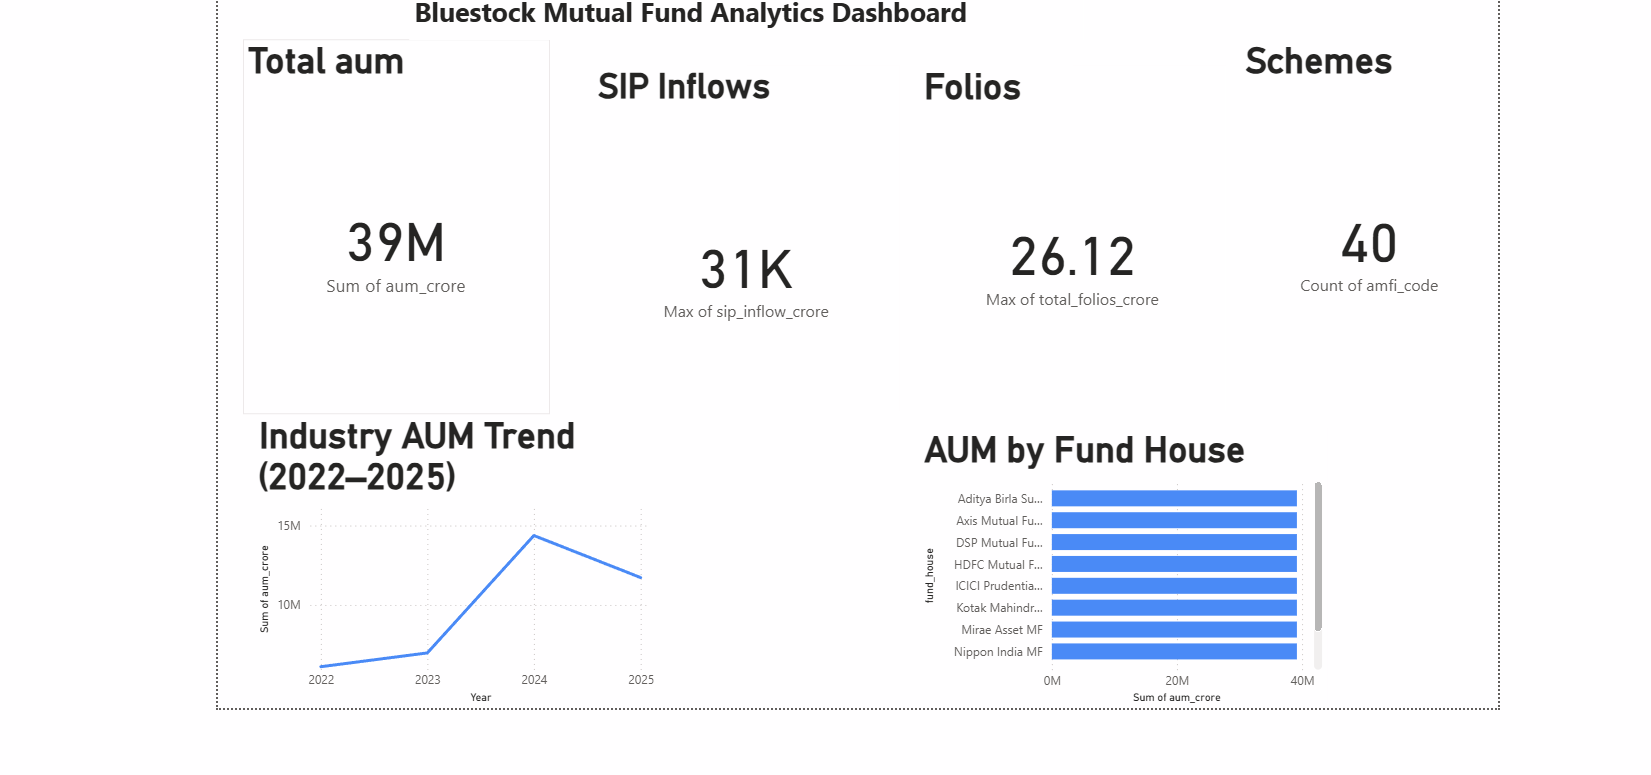

Layout of this report page (visuals, bound fields, positions):
{"tool":"powerbi","page":{"name":"Page 1Industry Overview","canvas":[1280,720],"ordinal":0},"visuals":[{"type":"lineChart","title":"Industry AUM Trend (2022–2025)","fields":{"Category":["03_aum_by_fund_house.date.Variation.Date Hierarchy.Year","03_aum_by_fund_house.date.Variation.Date Hierarchy.Quarter","03_aum_by_fund_house.date.Variation.Date Hierarchy.Month","03_aum_by_fund_house.date.Variation.Date Hierarchy.Day"],"Y":["Sum(03_aum_by_fund_house.aum_crore)"]},"box":[36.1,426.1,404.6,294.2],"z":0},{"type":"card","title":"Total aum","fields":{"Values":["Sum(03_aum_by_fund_house.aum_crore)"]},"box":[24.8,51.8,306.6,374.2],"z":1000},{"type":"card","title":"SIP Inflows","fields":{"Values":["Max(04_monthly_sip_inflows.sip_inflow_crore)"]},"box":[375.3,77.8,306.6,374.2],"z":2000},{"type":"card","title":"Folios","fields":{"Values":["Max(06_industry_folio_count.total_folios_crore)"]},"box":[701.1,77.8,306.6,348.3],"z":3000},{"type":"card","title":"Schemes","fields":{"Values":["Count(01_fund_master.amfi_code)"]},"box":[1022.3,51.8,258.1,374.2],"z":4000},{"type":"barChart","title":"AUM by Fund House","fields":{"Category":["01_fund_master.fund_house"],"Y":["Sum(03_aum_by_fund_house.aum_crore)"]},"box":[701.1,439.6,408,280.7],"z":5000},{"type":"textbox","box":[191.6,0,674,51.8],"z":6000},{"type":"textbox","box":[441,527,200,193],"z":7000}]}

Visuals, with their boxes on the page's 1280x720 design canvas (x1, y1, x2, y2). These are canvas units, not pixel positions in the 1651x775 screenshot, which may show the page scaled, cropped or inside an application window:
"Industry AUM Trend (2022–2025)" lineChart: (36,426,441,720)
"Total aum" card: (25,52,331,426)
"SIP Inflows" card: (375,78,682,452)
"Folios" card: (701,78,1008,426)
"Schemes" card: (1022,52,1280,426)
"AUM by Fund House" barChart: (701,440,1109,720)
textbox: (192,0,866,52)
textbox: (441,527,641,720)
